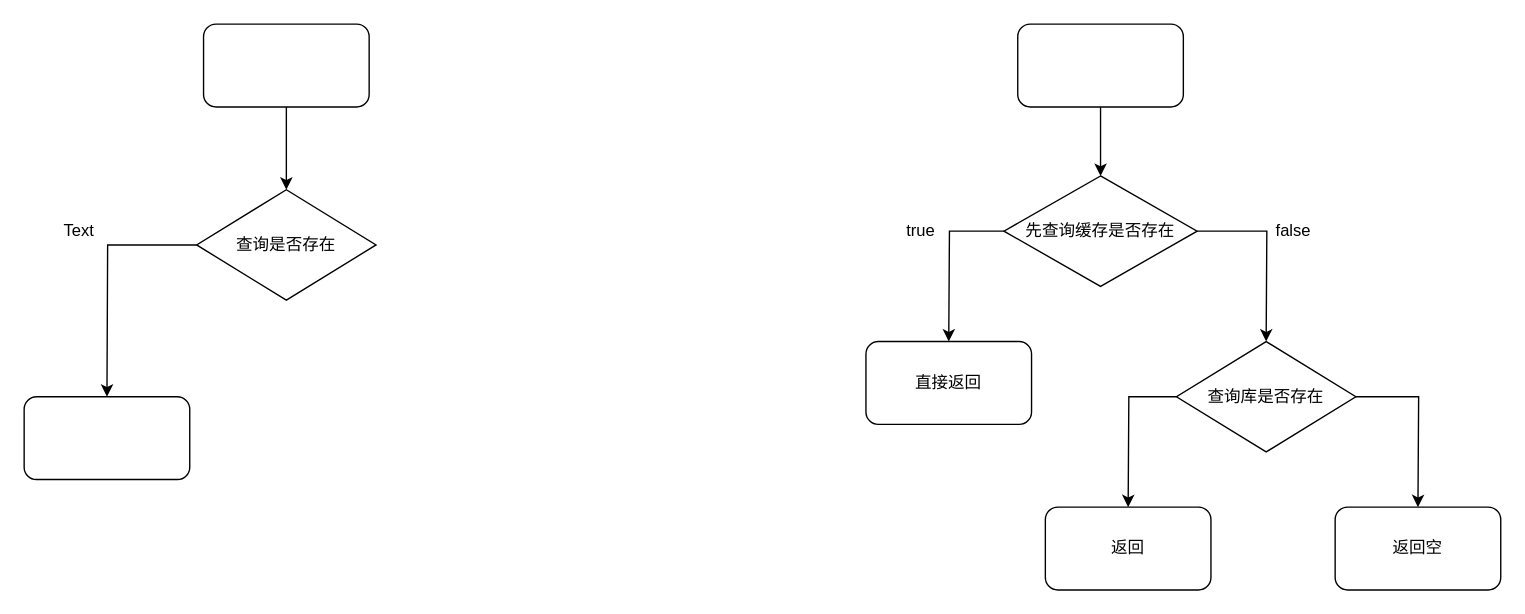
This 1525x614 diagram has some shape labels left out. The shapes that lost their labels are listed below. From the top down, each one's centre as x and y in pixels, then its label:
the point at 285,65: 开通美店
the point at 1099,65: 查询美店主信息
the point at 106,437: 重复开通美店
